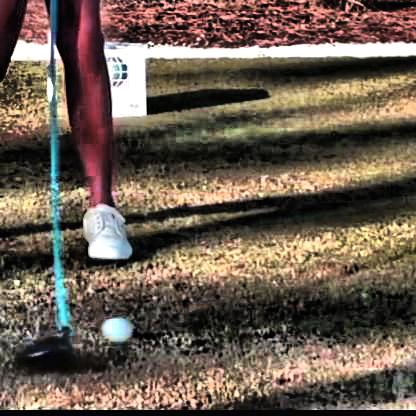golfball: (99, 315, 129, 340)
